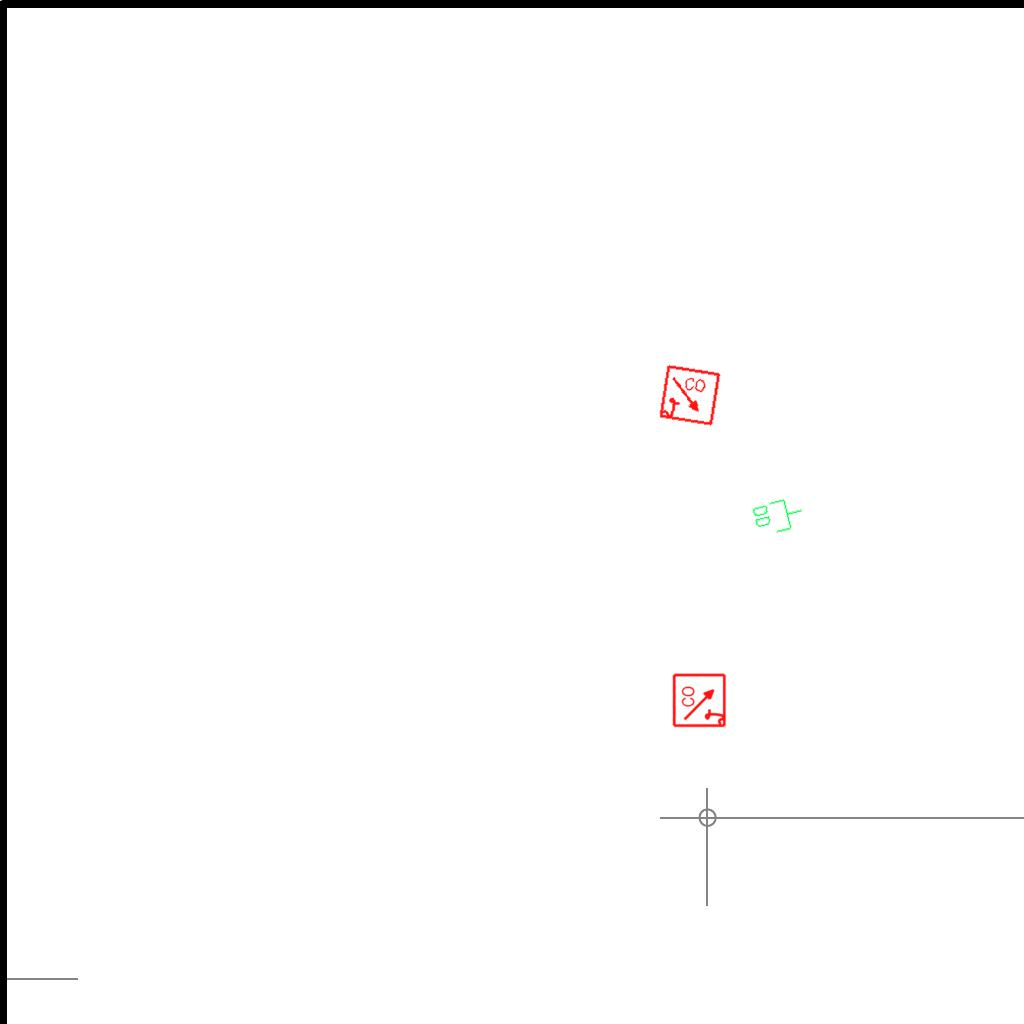Datenanschluss_zweifach: (749, 493, 808, 539)
ROA_Rauchmelder_optisch_mit_Signalgeber_(Sockelsirene): (657, 363, 723, 429), (672, 672, 728, 728)
